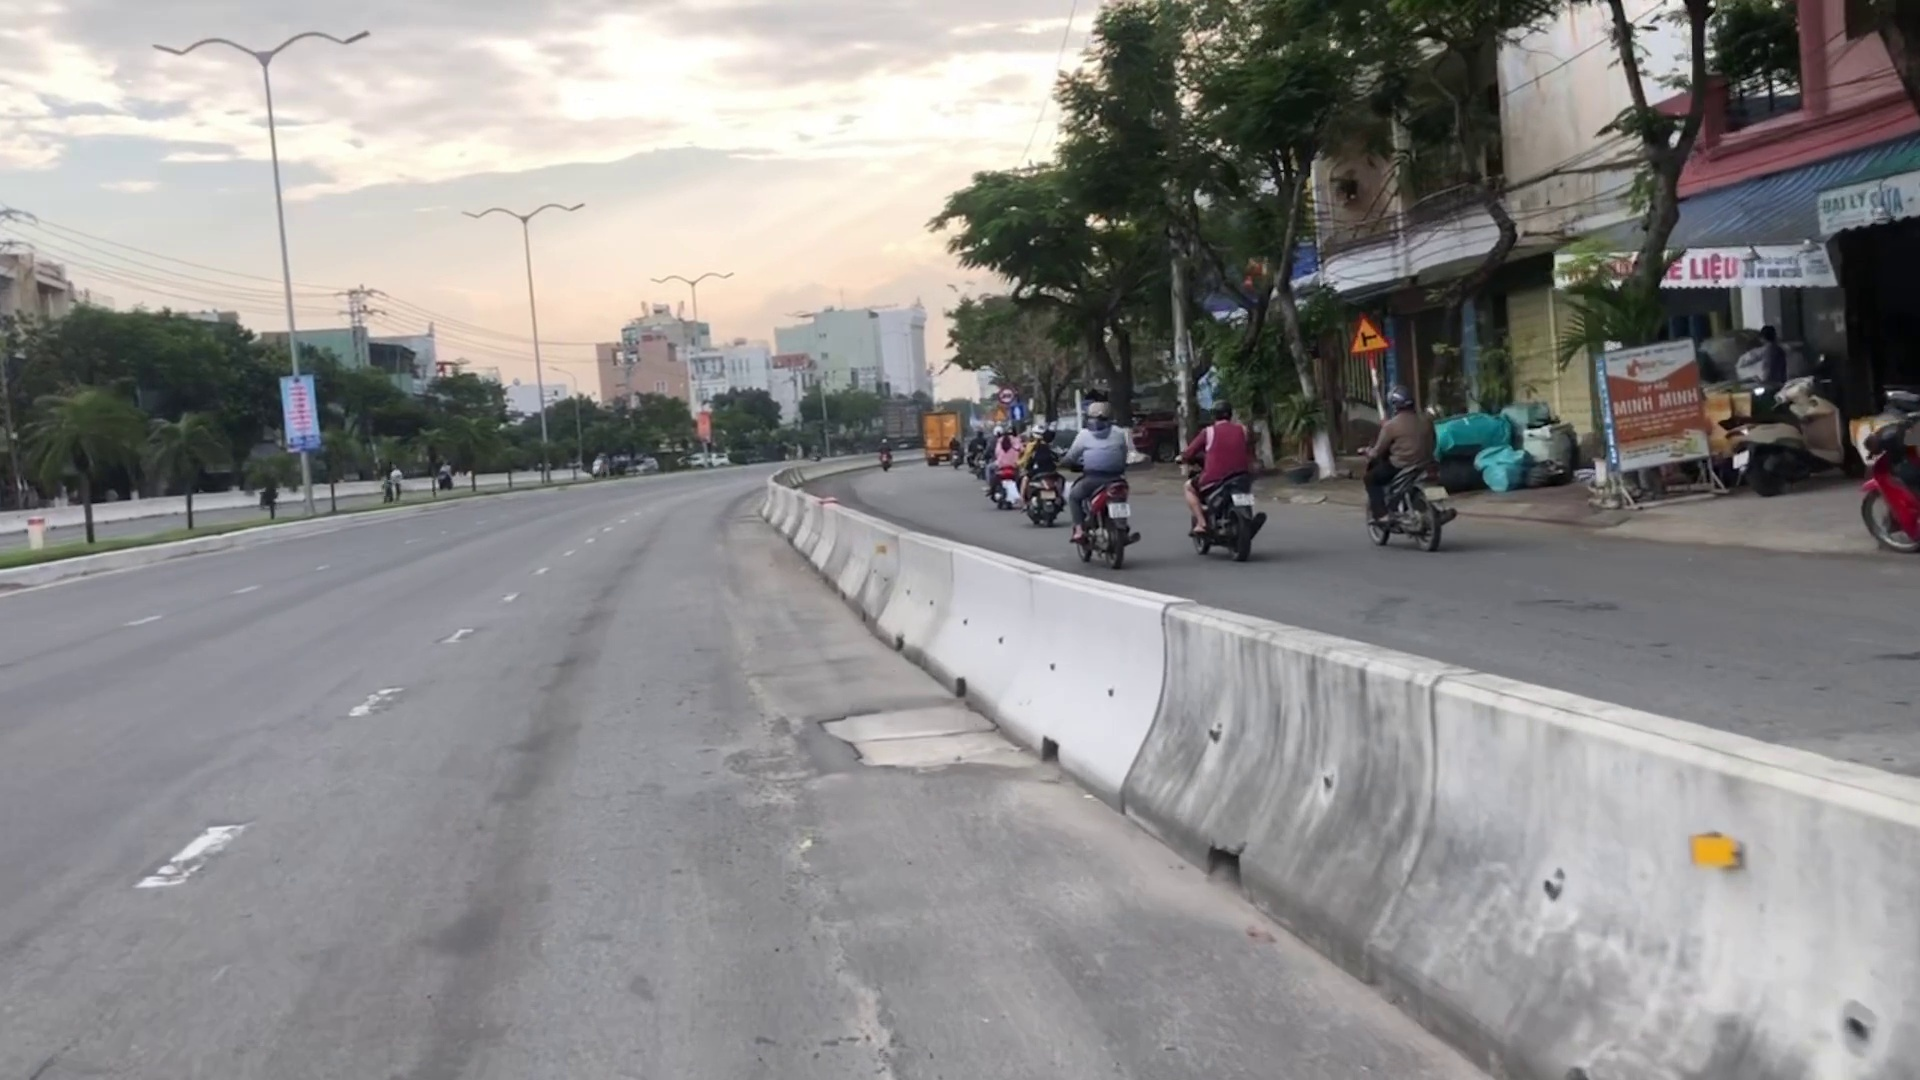Bien khac: (1344, 315, 1391, 352), (1013, 406, 1025, 419)
